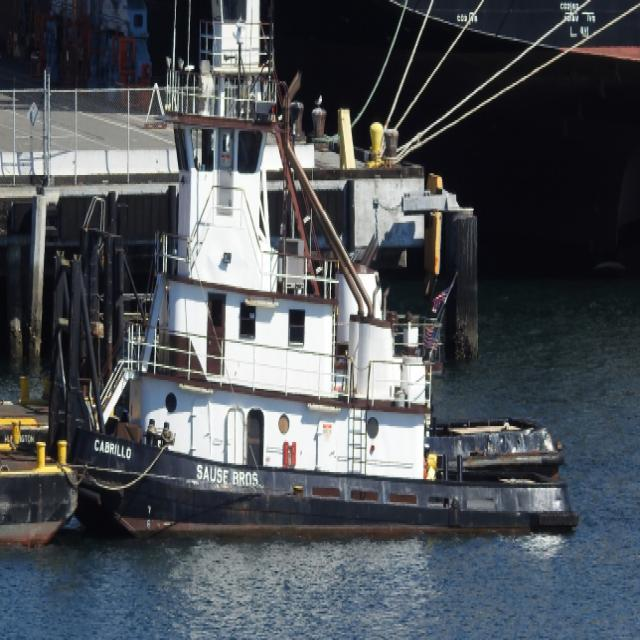tugboat: (46, 1, 585, 556)
